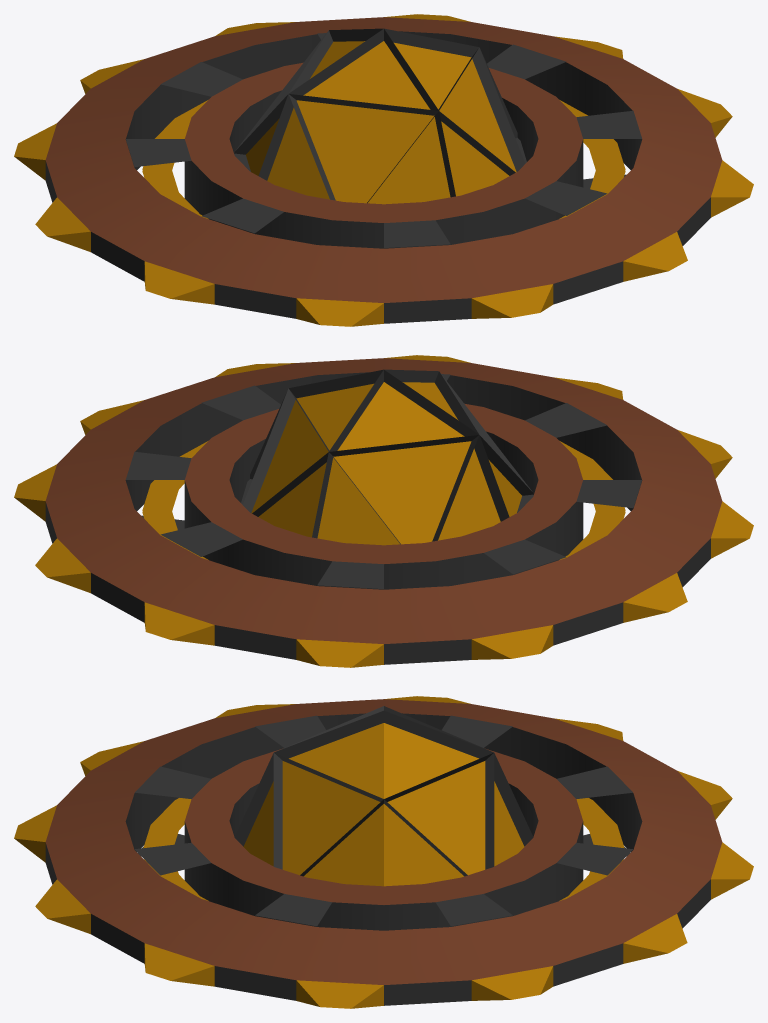
File: Ship-TypeC-Saucer.fbx
3 views of the same model, one above another, from view 1: azimuth 30°, elevation 25°; view 2: azimuth 150°, elevation 25°; view 3: azimuth 270°, elevation 25° (orthographic).
Parts seen in each view (by area): view 1: Ship_Drought_01, Ship_Drought_Core_01; view 2: Ship_Drought_01, Ship_Drought_Core_01; view 3: Ship_Drought_01, Ship_Drought_Core_01.
Part boxes in pixels (<box>): Ship_Drought_01: <box>14,14,753,326</box>; Ship_Drought_Core_01: <box>234,28,526,204</box>; Ship_Drought_01: <box>14,355,753,667</box>; Ship_Drought_Core_01: <box>241,369,533,545</box>; Ship_Drought_01: <box>14,696,753,1008</box>; Ship_Drought_Core_01: <box>234,706,533,886</box>.
Bounding box in the file's own units: 0.9009 × 0.3813 × 0.9009.
